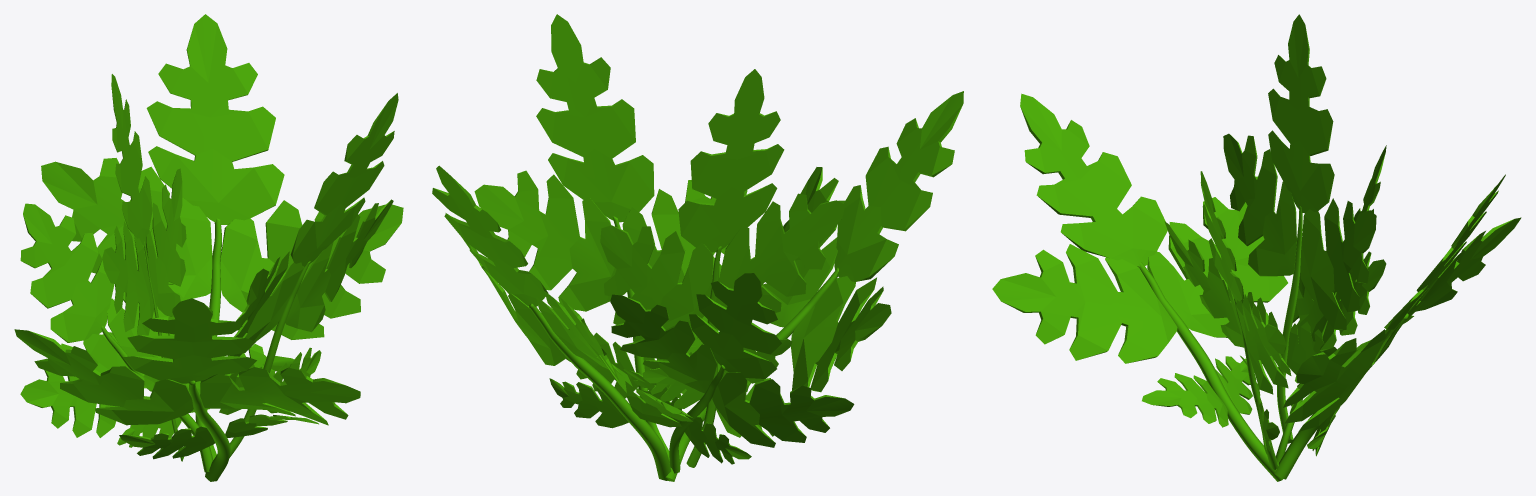
File: shrub.fbx
3 renders of one model, left to right at view 1: azimuth 30°, elevation 25°; view 2: azimuth 150°, elevation 25°; view 3: azimuth 270°, elevation 25°, orthographic. The views are drawn at different scales.
Visible parts, largest first — view 1: leaf3, leaf4, leaf5, leaf6, leaf7; view 2: leaf7, leaf5, leaf4, leaf6, leaf3; view 3: leaf4, leaf7, leaf3, leaf5, leaf6.
Boxes of the visible parts, x1,y1,x2,y2 form: leaf3: (41,14,403,459); leaf4: (14,298,360,481); leaf5: (219,93,398,457); leaf6: (20,203,213,472); leaf7: (102,74,186,461); leaf7: (600,69,844,467); leaf5: (474,14,747,461); leaf4: (666,91,963,481); leaf6: (610,273,854,473); leaf3: (432,165,692,480); leaf4: (992,93,1287,481); leaf7: (1223,14,1376,443); leaf3: (1274,174,1521,479); leaf5: (1164,171,1291,469); leaf6: (1276,145,1386,462).
Size of the model in its own units: 12.06 by 11.98 by 13.62.
